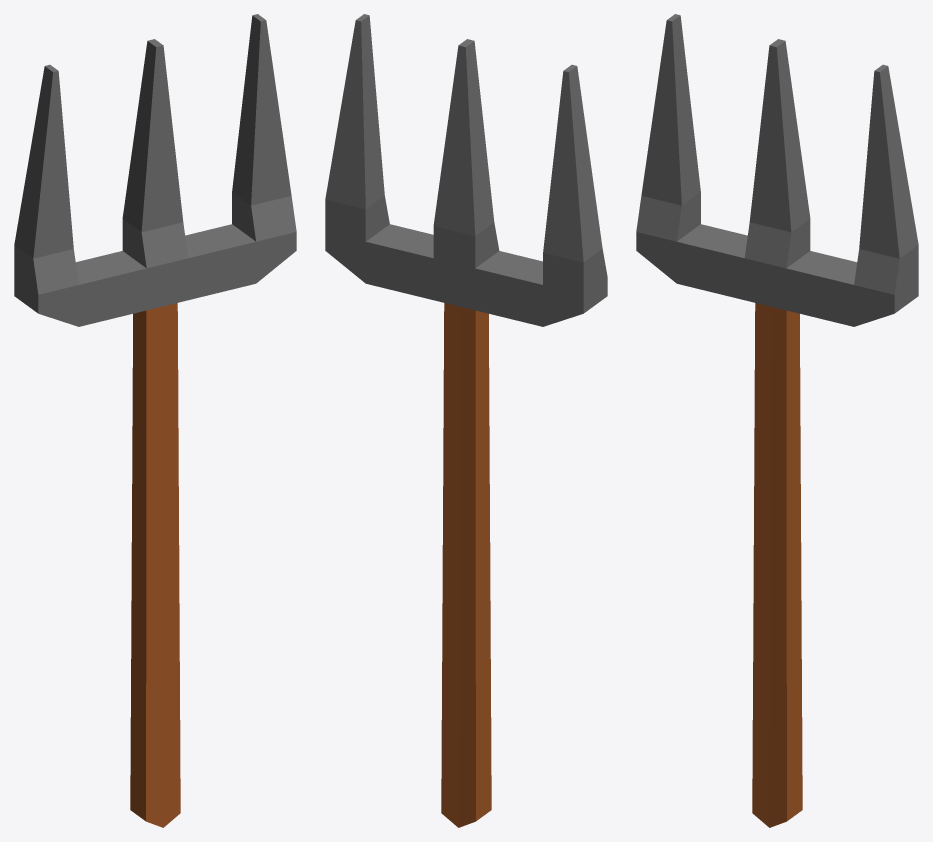
Rendered from Pitchfork.fbx.
The picture shows the model from 3 angles, left to right: view 1: azimuth 30°, elevation 25°; view 2: azimuth 150°, elevation 25°; view 3: azimuth 330°, elevation 25°; orthographic projection.
Parts seen in each view (by area): view 1: Cube; view 2: Cube; view 3: Cube.
Part boxes in pixels (<box>): Cube: <box>14,14,296,827</box>; Cube: <box>325,14,607,827</box>; Cube: <box>636,14,918,827</box>.
Size of the model in its own units: 1.24 by 0.2 by 3.57.
